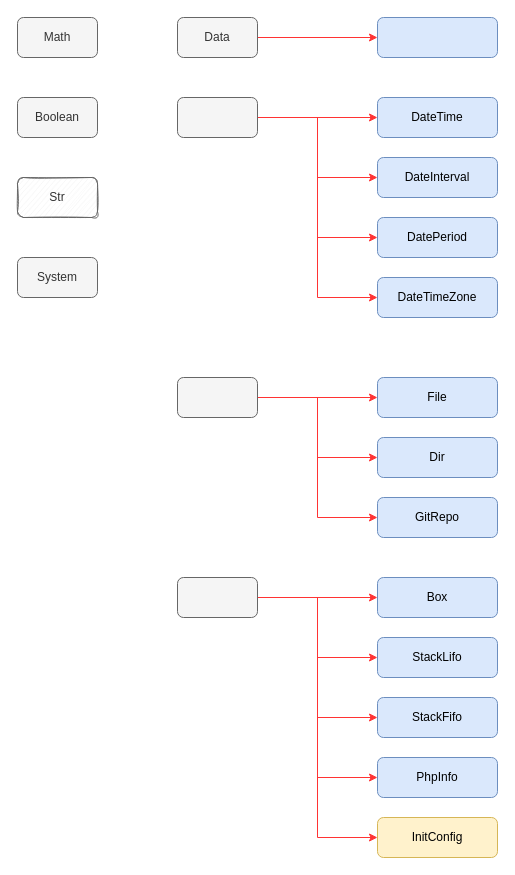
This 515x875 diagram has some shape labels left out. Here are the shapes that lost their labels. From the top down, the centre of each, then its label:
(x=437, y=37): DataUnit
(x=217, y=117): DT
(x=217, y=397): FS
(x=217, y=597): PHP
